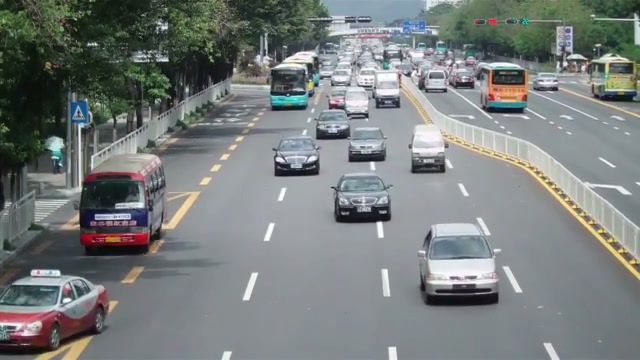bus: (79, 152, 167, 254), (476, 62, 528, 112), (589, 55, 639, 101), (269, 63, 309, 110), (284, 51, 320, 89)
car: (0, 270, 111, 352), (416, 222, 502, 305), (330, 172, 395, 222), (408, 123, 448, 173), (272, 136, 321, 176), (348, 126, 388, 162), (316, 109, 351, 139), (344, 87, 370, 119), (450, 68, 476, 88), (533, 74, 559, 91), (328, 87, 348, 109)
truck: (373, 70, 401, 108)
